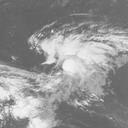cyclone: (34, 26, 102, 87)
